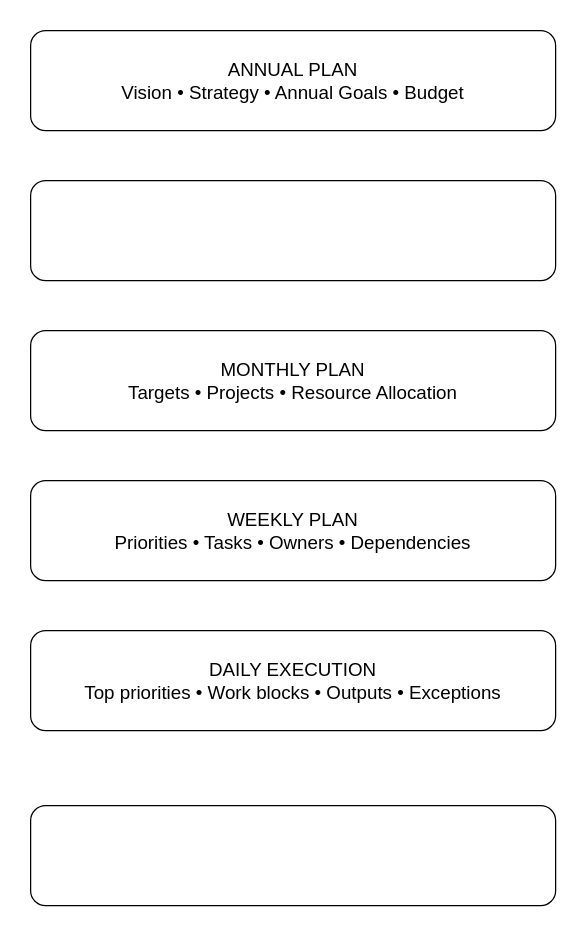
This 578x928 diagram has some shape labels left out. Each missing label, with the centre of its shape:
"QUARTERLY PLAN Objectives • Department Goals • Capacity" belongs at point (292, 230).
"REVIEW & FEEDBACK Actual vs target → Lessons → Adjust next cycle" belongs at point (292, 855).
